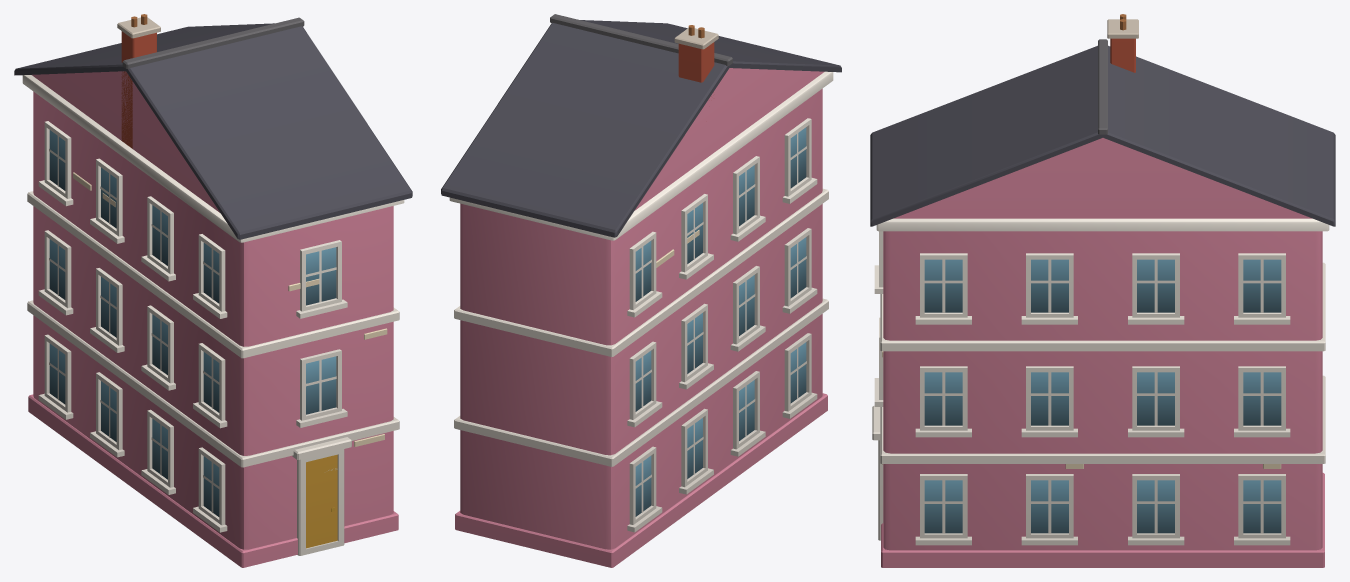
File: beacon_n18.glb
3 renders of one model, left to right at view 1: azimuth 30°, elevation 25°; view 2: azimuth 150°, elevation 25°; view 3: azimuth 270°, elevation 25°, orthographic. The views are drawn at different scales.
Visible parts, largest first — view 1: beacon_n18; view 2: beacon_n18; view 3: beacon_n18.
Part boxes in pixels (box(x1,y1,x2,y2)): beacon_n18: box(14, 14, 412, 567); beacon_n18: box(441, 14, 841, 567); beacon_n18: box(870, 14, 1335, 567).
Size of the model in its own units: 5.8 by 14.42 by 12.7.
1 material, 1 textured.
